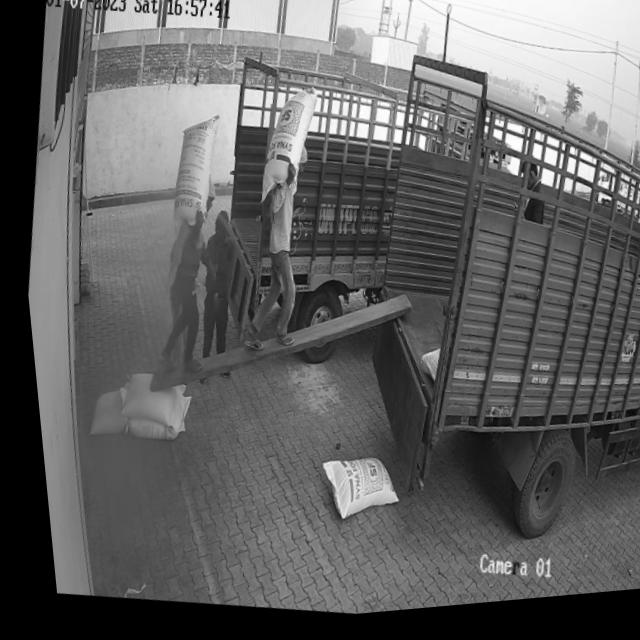sack: (247, 87, 322, 216), (158, 113, 226, 241), (303, 454, 396, 536), (107, 370, 182, 433), (113, 389, 186, 448), (76, 384, 126, 443)
